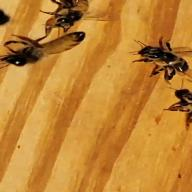Bee: (121, 35, 192, 81), (34, 0, 110, 37)
